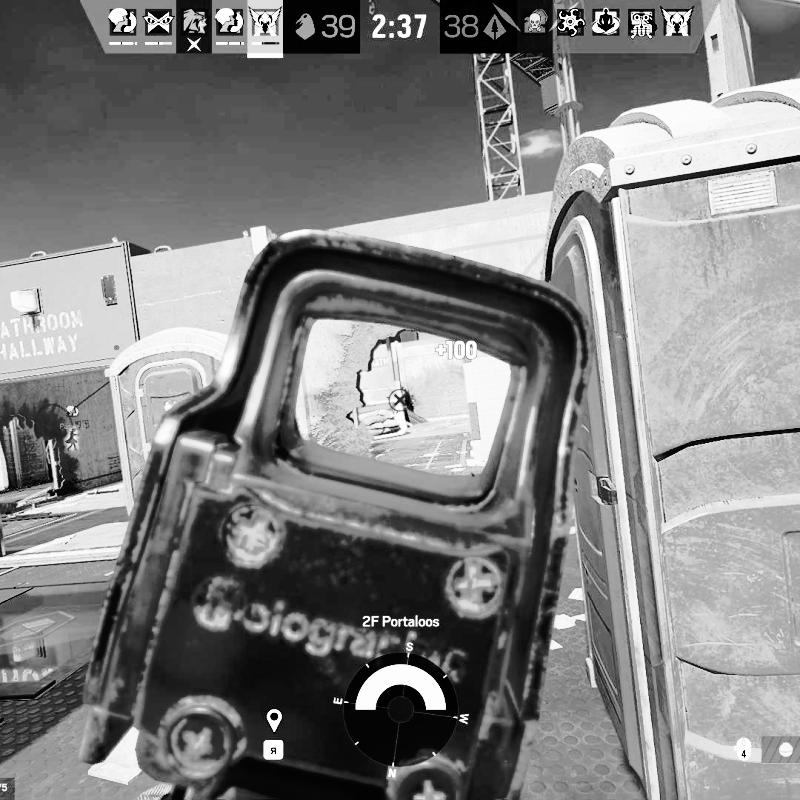Friend_label: (56, 403, 92, 432)
